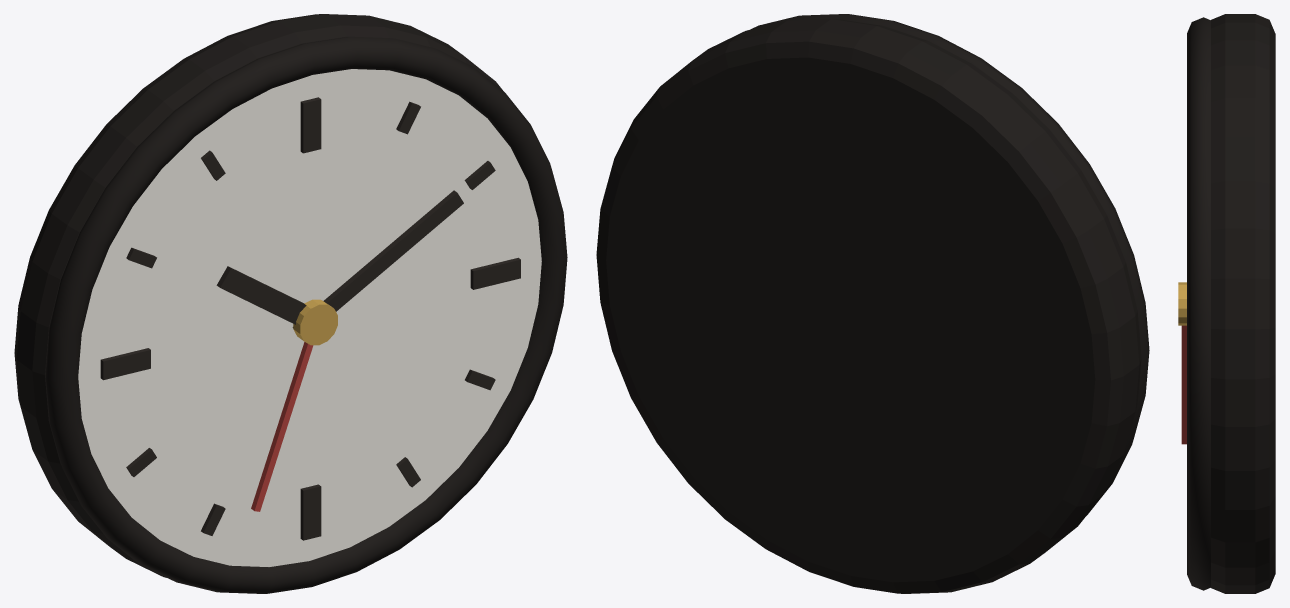
File: hh_cat_wall_clock.glb
3 renders of one model, left to right at view 1: azimuth 30°, elevation 25°; view 2: azimuth 150°, elevation 25°; view 3: azimuth 270°, elevation 25°, orthographic. The views are drawn at different scales.
Parts seen in each view (by area): view 1: face, bezel, case, minute_hand, hour_hand, second_hand, centre_cap, tick, tick.006, tick.003, tick.009; view 2: case, bezel; view 3: case, bezel, second_hand, centre_cap.
Part boxes in pixels (x1,y1,x2,y2): face: [78, 69, 541, 566]; bezel: [45, 37, 567, 593]; case: [14, 14, 502, 577]; minute_hand: [292, 190, 463, 327]; hour_hand: [216, 266, 306, 324]; second_hand: [251, 342, 313, 511]; centre_cap: [293, 299, 337, 345]; tick: [300, 97, 321, 153]; tick.006: [300, 484, 321, 540]; tick.003: [470, 257, 520, 289]; tick.009: [100, 348, 150, 380]; case: [596, 19, 1141, 593]; bezel: [750, 14, 1149, 515]; case: [1211, 14, 1275, 593]; bezel: [1187, 17, 1210, 590]; second_hand: [1181, 325, 1186, 444]; centre_cap: [1178, 282, 1186, 325].
Size of the model in its own units: 0.36 by 0.36 by 0.06.
